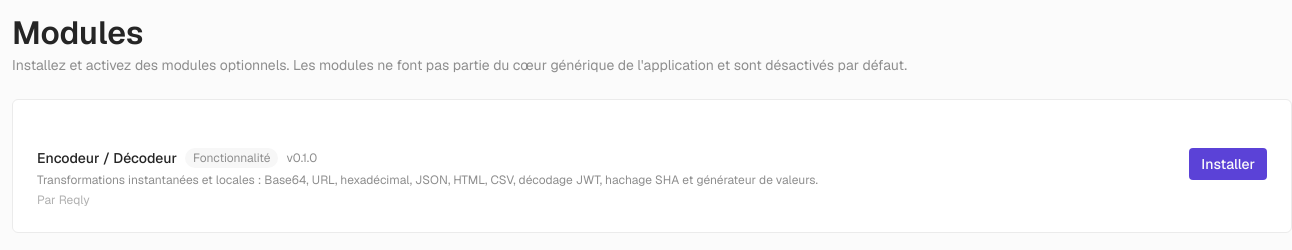
Test case: ModulesSection › installs a module and reveals the enable switch
Click the button "Installer" at (1228, 164), box [1189,148,1267,180]
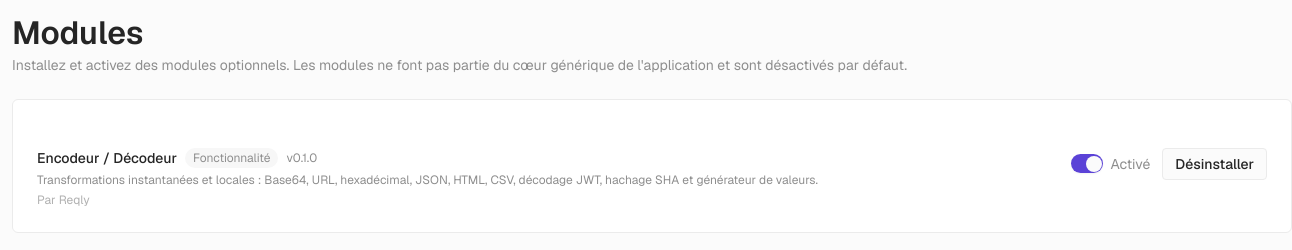
Check: the button "Désinstaller" is shown, box [1162,148,1267,180]
